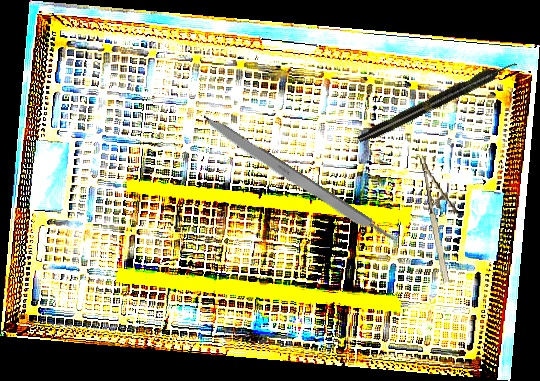Handpiece: (355, 56, 520, 147)
Needle Holder: (419, 150, 470, 284)
Scalpel Handle: (198, 111, 399, 250)
